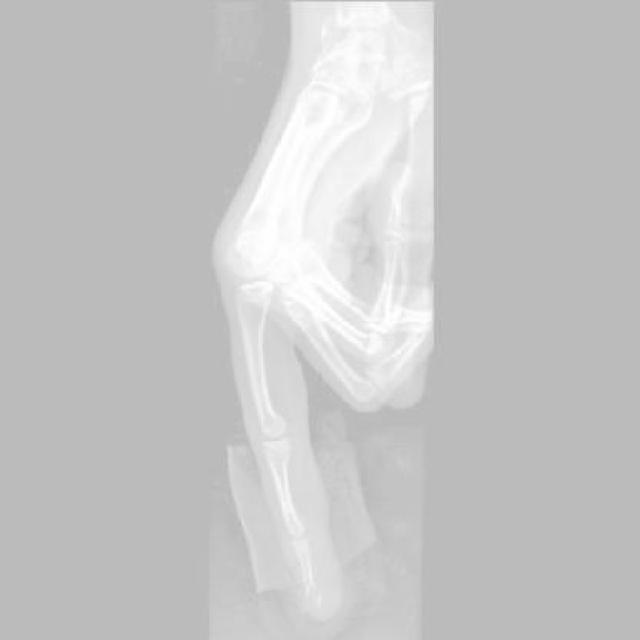Fracture: (299, 580, 319, 609)
